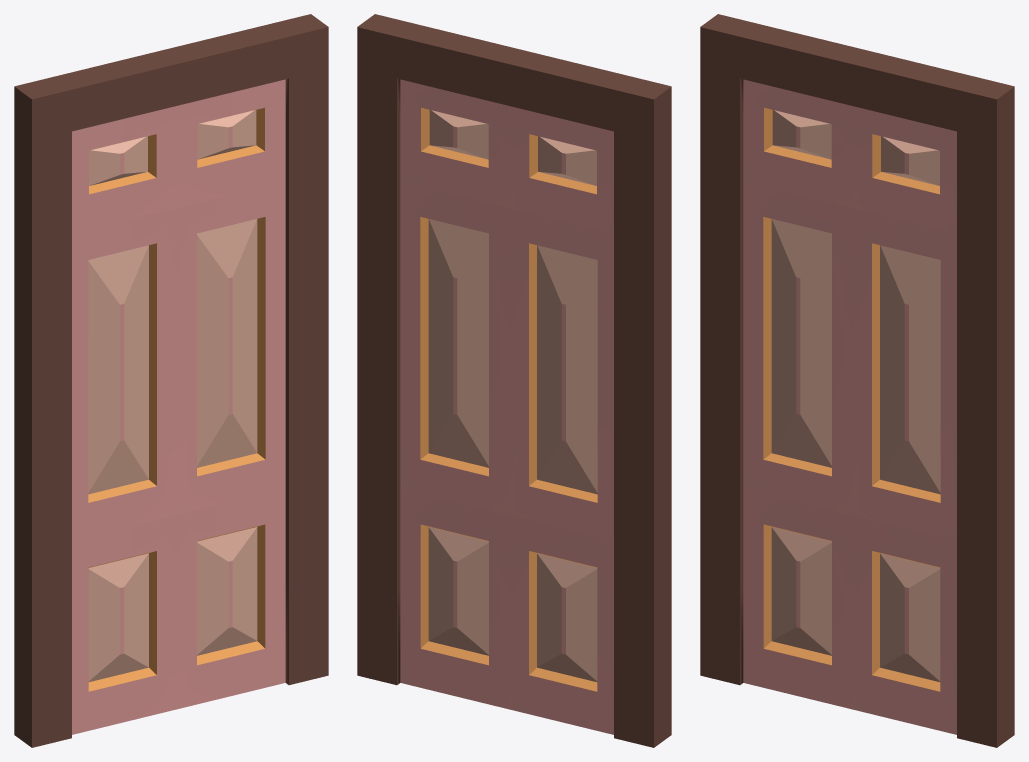
Rendered from Door01.fbx.
3 views of the same model, side by side, from view 1: azimuth 30°, elevation 25°; view 2: azimuth 150°, elevation 25°; view 3: azimuth 330°, elevation 25° (orthographic).
Visible parts, largest first — view 1: Door, DoorFrame; view 2: Door, DoorFrame; view 3: Door, DoorFrame.
Part boxes in pixels (x1=…): Door: x1=72, y1=79, x2=285, y2=734; DoorFrame: x1=14, y1=14, x2=328, y2=747; Door: x1=400, y1=79, x2=613, y2=734; DoorFrame: x1=357, y1=14, x2=671, y2=747; Door: x1=743, y1=79, x2=956, y2=734; DoorFrame: x1=700, y1=14, x2=1014, y2=747.
Bounding box in the file's own units: 66.74 × 139 × 6.95.
